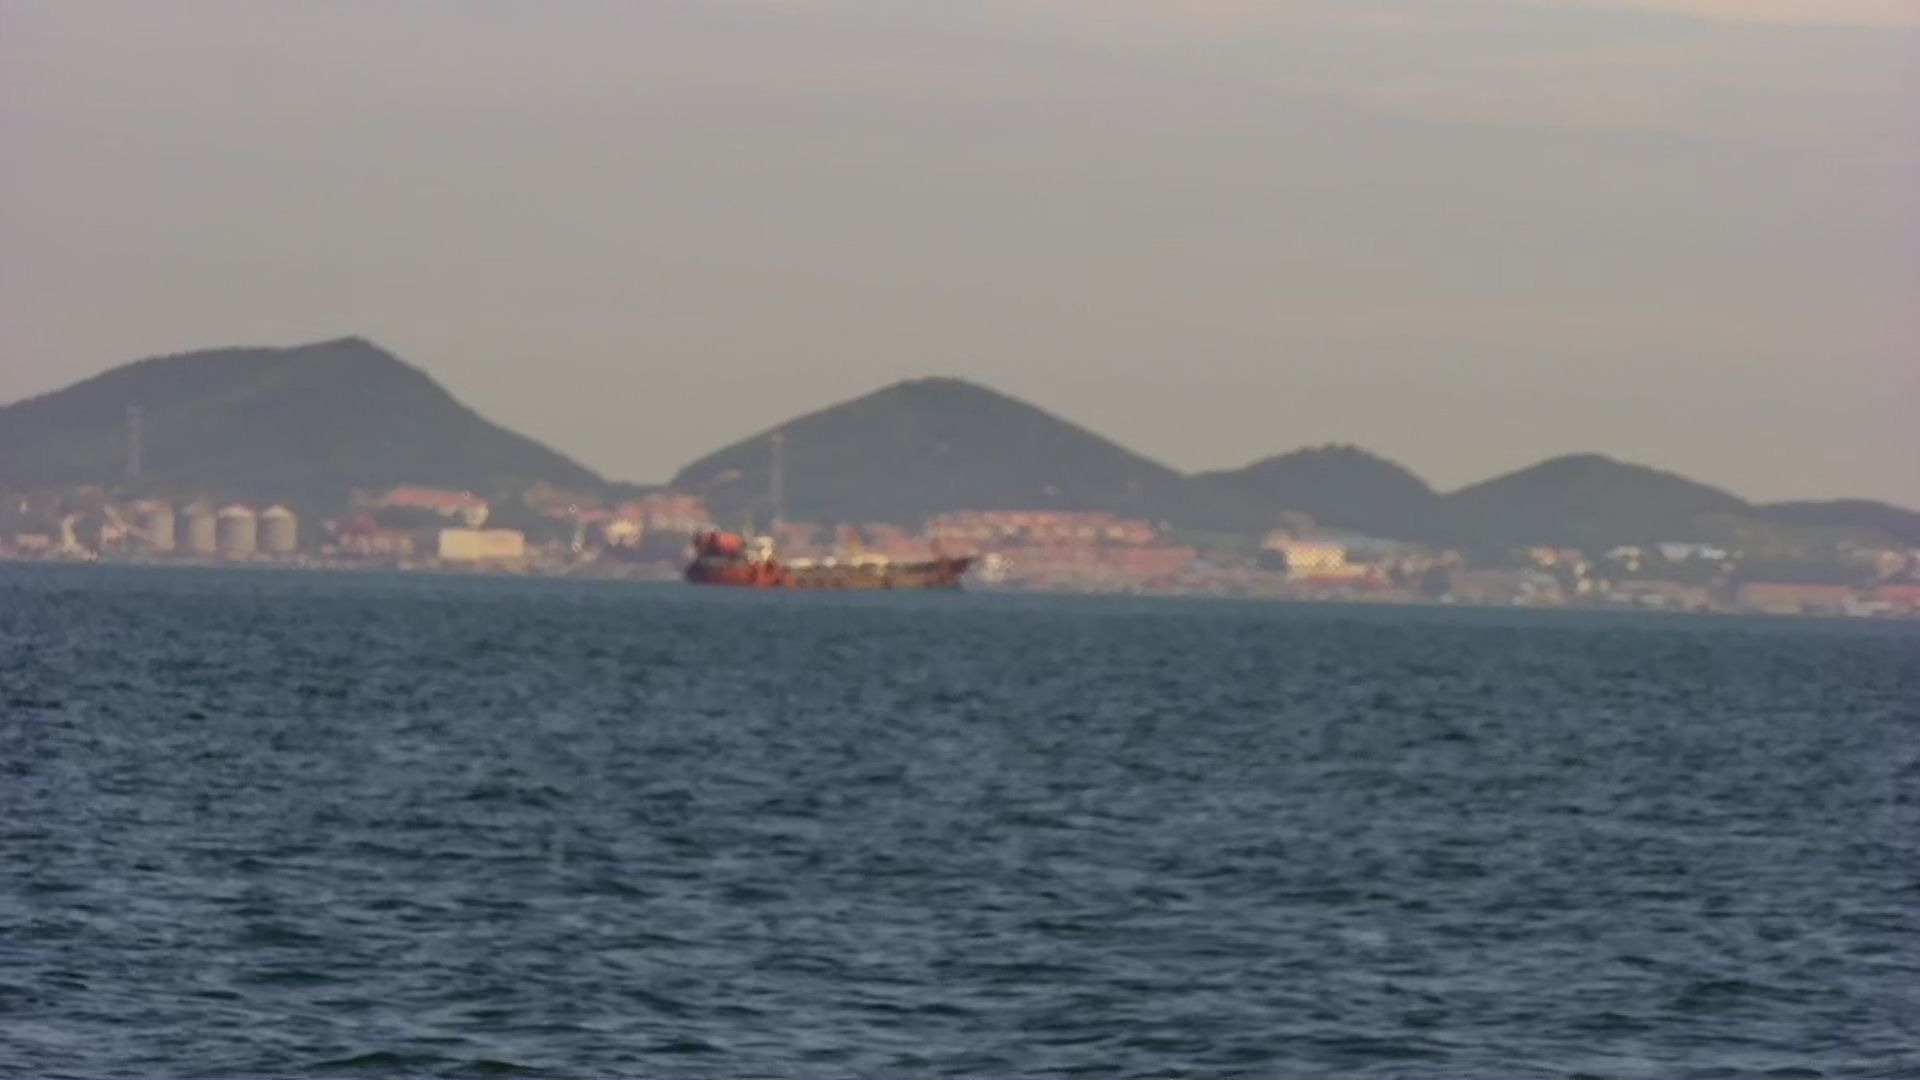boat: (686, 545, 978, 593)
